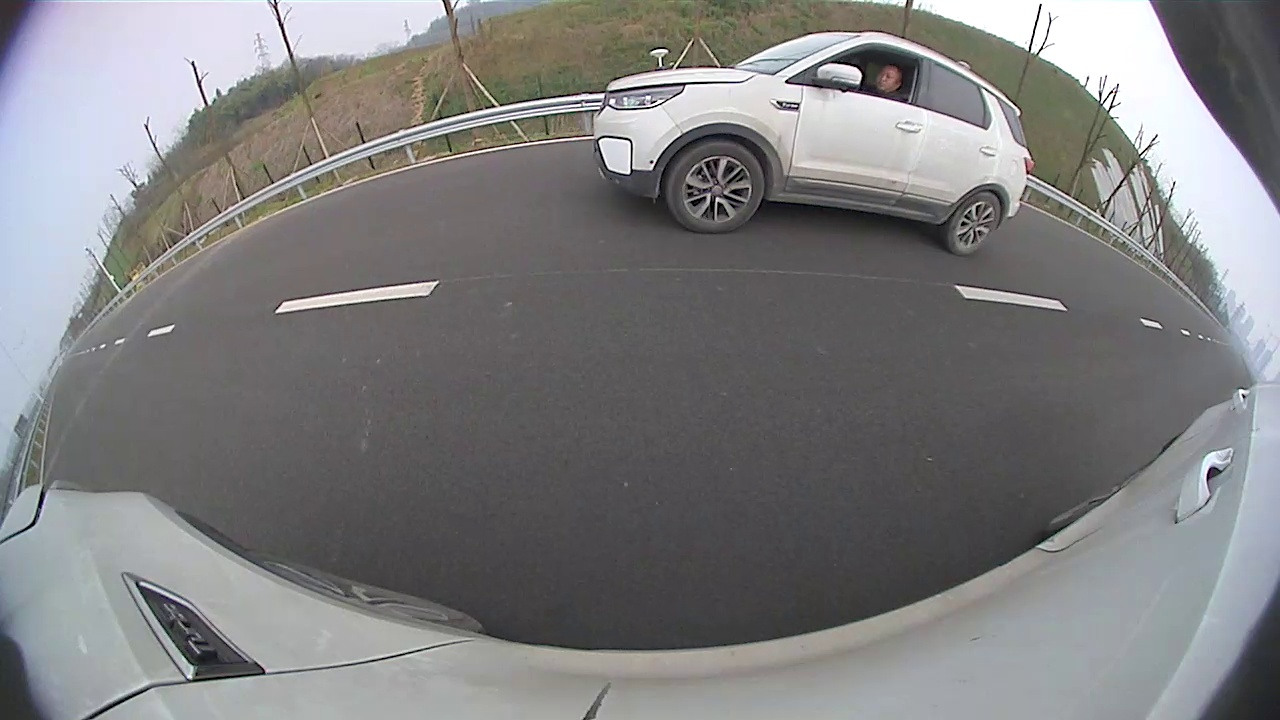car: (593, 32, 1035, 255)
front: (667, 139, 768, 237)
rear: (946, 189, 1002, 256)
